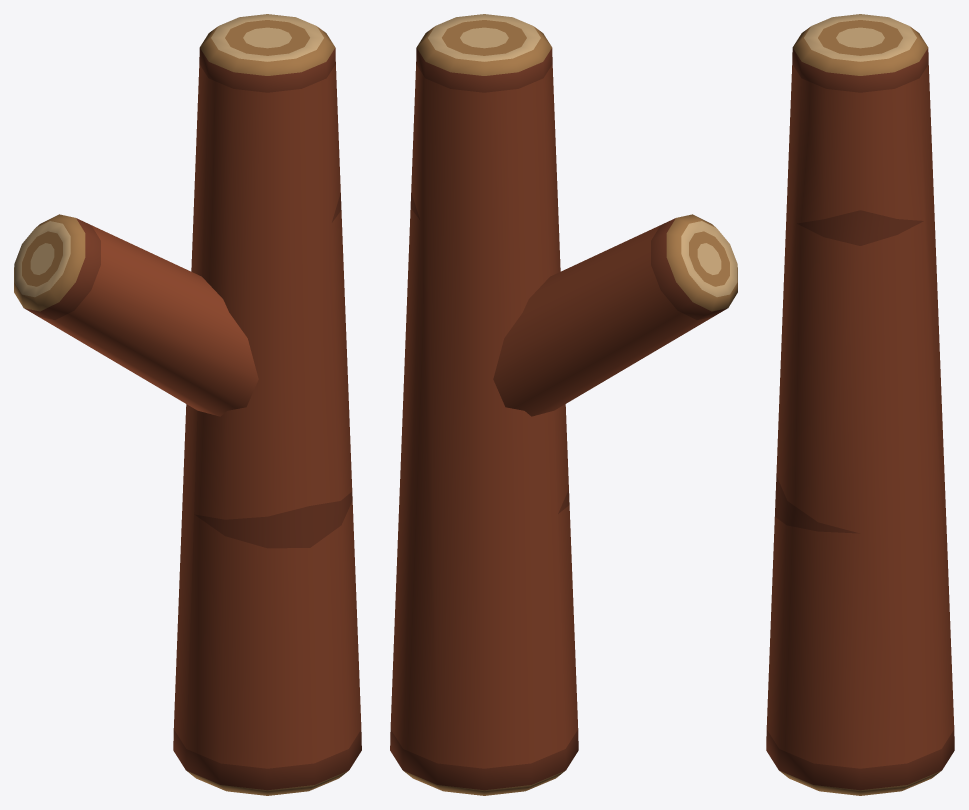
The model's file is stick_0.fbx.
3 renders of one model, left to right at view 1: azimuth 30°, elevation 25°; view 2: azimuth 150°, elevation 25°; view 3: azimuth 270°, elevation 25°, orthographic.
Parts seen in each view (by area): view 1: stick_0; view 2: stick_0; view 3: stick_0.
Part boxes in pixels (box(x1,y1,x2,y2)): stick_0: box(14, 14, 361, 795); stick_0: box(390, 14, 737, 795); stick_0: box(766, 14, 954, 795).
Size of the model in its own units: 0.3559 by 0.7513 by 0.1776.
